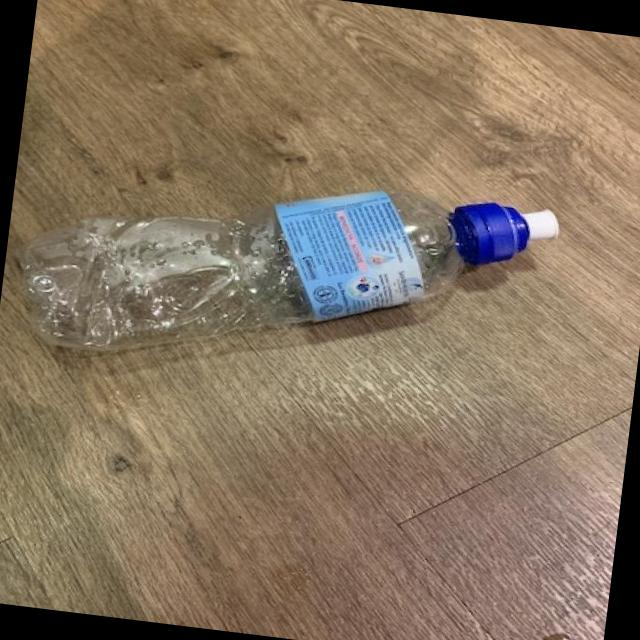plastic_bottle: (4, 144, 562, 405)
